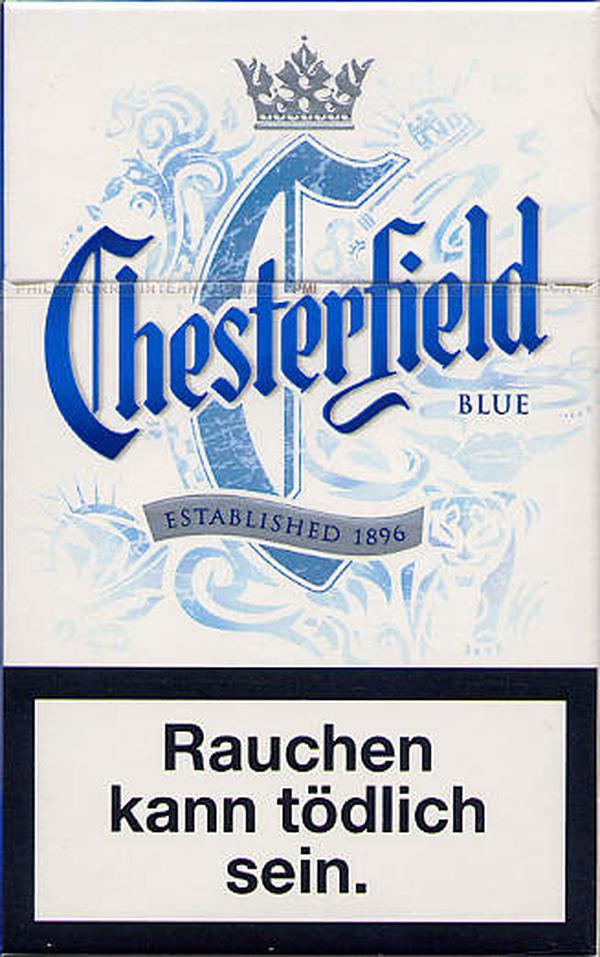chesterfield_blue: (3, 1, 597, 957)
